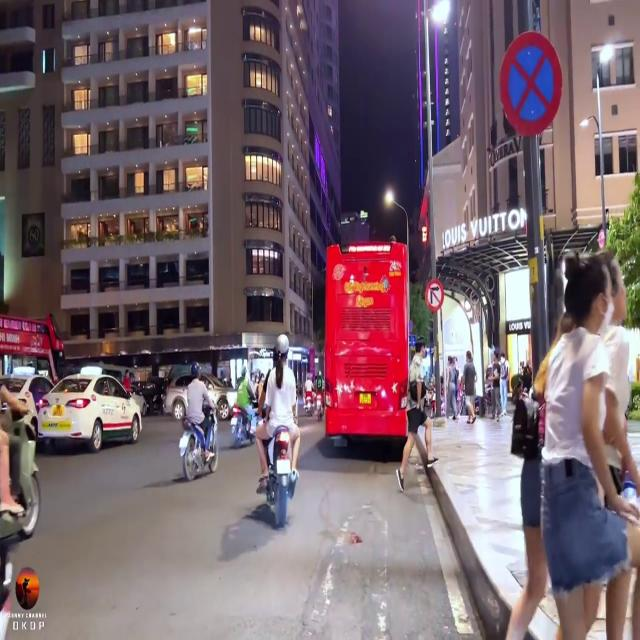bien_vang: (357, 389, 374, 408)
